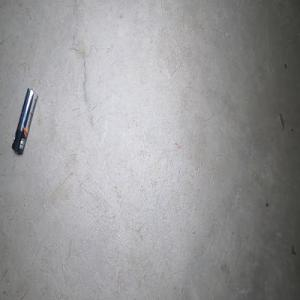Battery: (11, 87, 38, 154)
